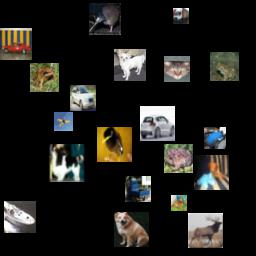airplane: (54, 112, 73, 131)
automobile: (140, 106, 175, 141), (0, 28, 32, 60), (70, 85, 96, 111), (204, 127, 226, 149)
bird: (97, 127, 132, 162), (89, 3, 121, 35)
cat: (164, 56, 190, 82)
deer: (188, 213, 223, 248), (171, 195, 187, 211)
dog: (48, 144, 86, 182), (114, 212, 149, 247), (194, 155, 229, 190), (114, 49, 146, 81)
frog: (210, 52, 239, 81), (164, 144, 193, 173), (30, 63, 59, 92)
ship: (4, 201, 36, 233)
truck: (125, 176, 151, 202), (173, 8, 189, 24)
